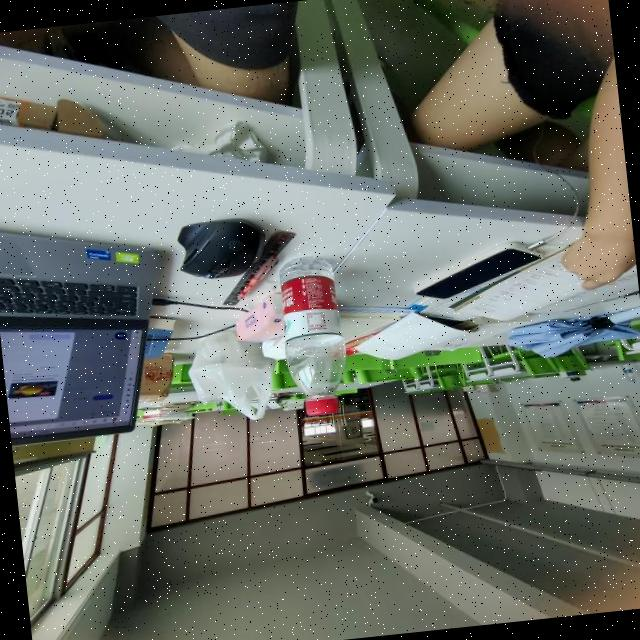bottle: (273, 249, 353, 422)
cap: (300, 396, 336, 420)
label: (273, 271, 348, 346)
